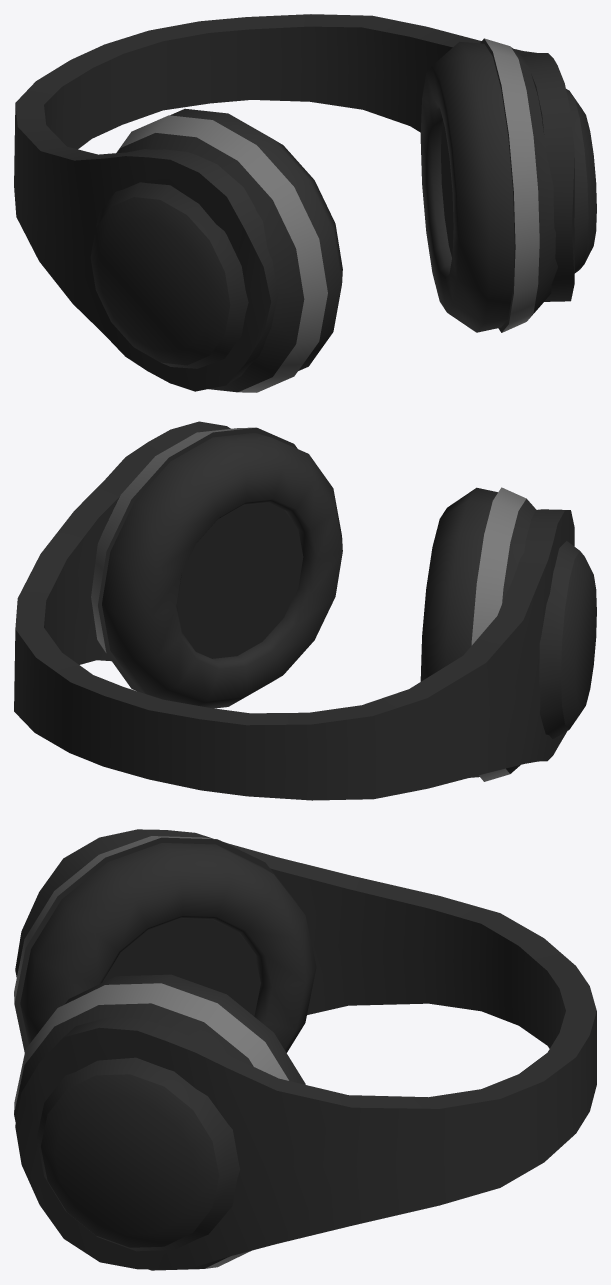
File: Headphones_01.fbx
3 views of the same model, one above another, from view 1: azimuth 30°, elevation 25°; view 2: azimuth 150°, elevation 25°; view 3: azimuth 270°, elevation 25° (orthographic). The views are drawn at different scales.
Parts seen in each view (by area): view 1: Headphones_01; view 2: Headphones_01; view 3: Headphones_01.
Part boxes in pixels (left/top/right/bottom): Headphones_01: left=14, top=14, right=596, bottom=392; Headphones_01: left=14, top=421, right=596, bottom=800; Headphones_01: left=14, top=829, right=596, bottom=1270.
Size of the model in its own units: 0.3014 by 0.1617 by 0.2991.
